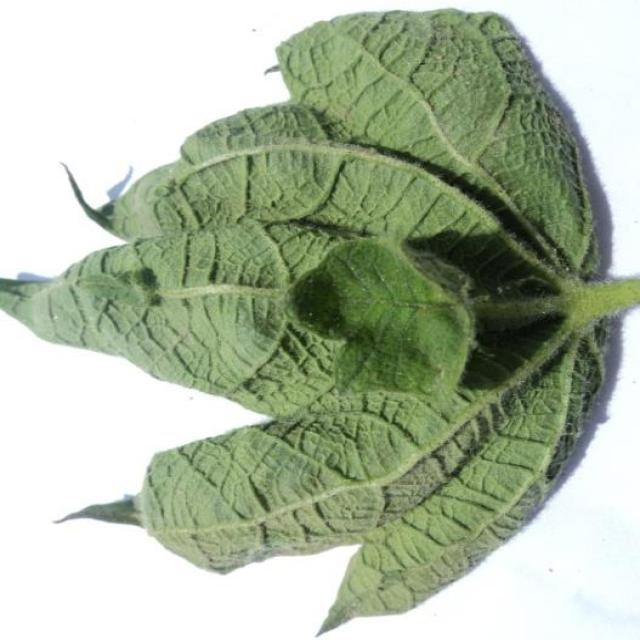Leaf Curl Virus: (196, 51, 558, 519)
